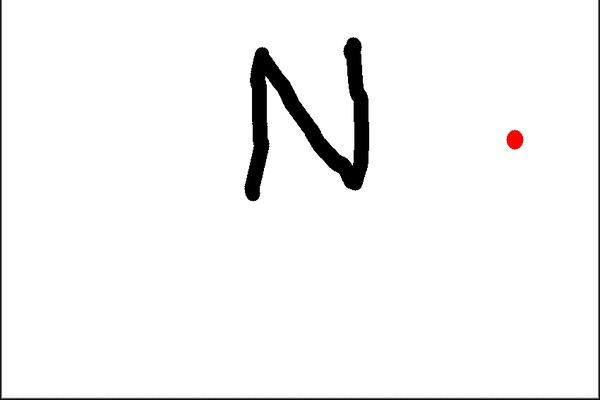N: (242, 35, 372, 211)
